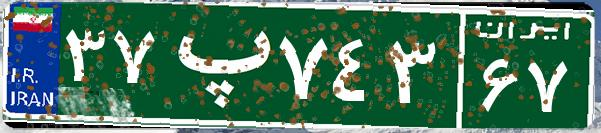3: (385, 28, 445, 110), (57, 26, 110, 107)
4: (330, 28, 385, 110)
6: (475, 38, 525, 113)
7: (273, 28, 330, 110), (110, 28, 158, 105), (525, 38, 570, 115)
پ: (158, 15, 273, 115)
